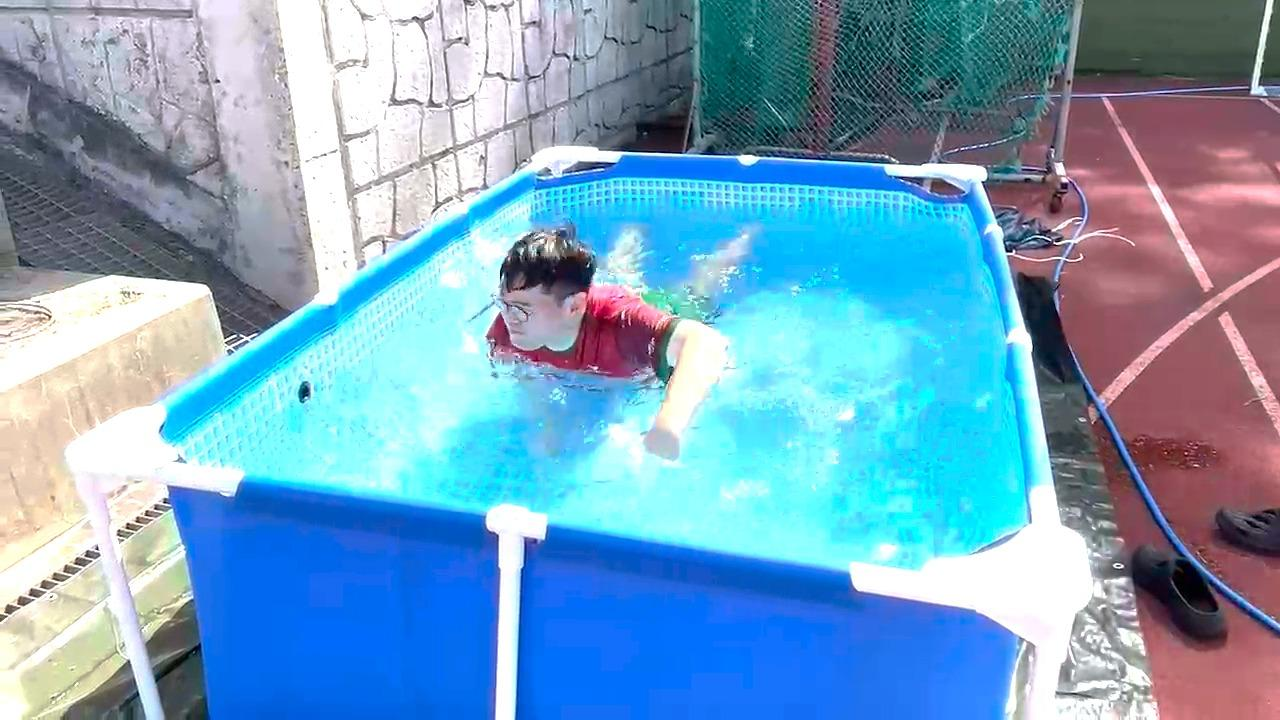Swimming: (454, 198, 782, 442)
